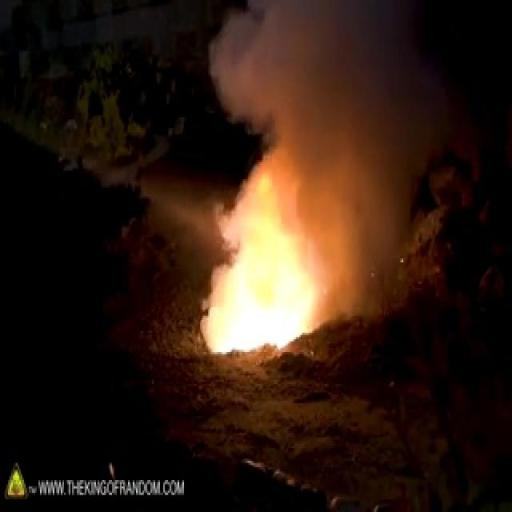smoke: (194, 186, 329, 356)
